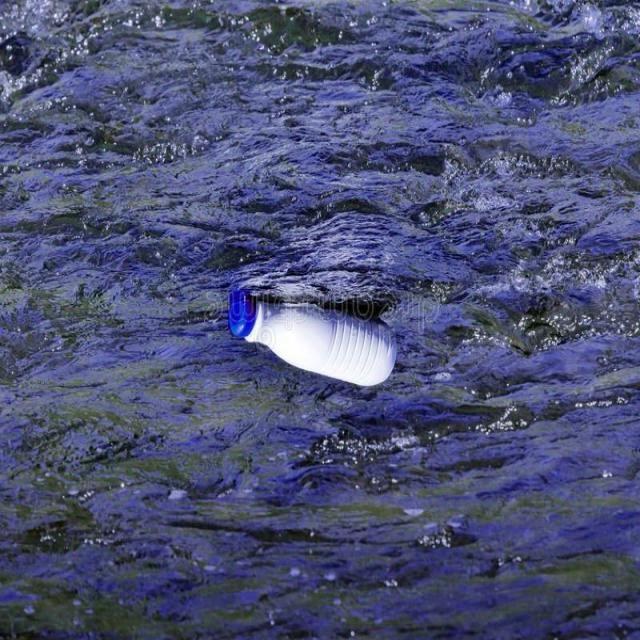Plastic: (221, 293, 398, 395)
